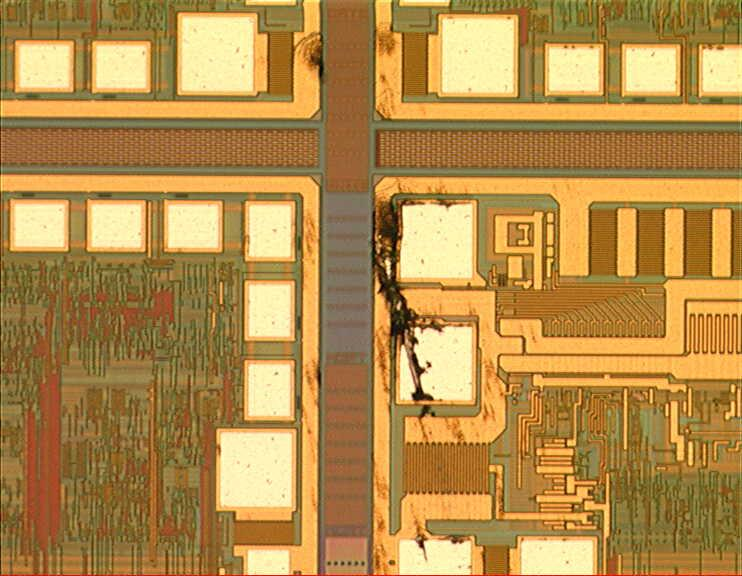SCRATCH: (281, 19, 549, 576)
